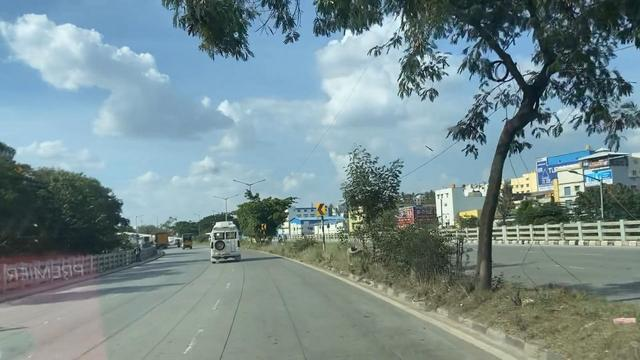HMV: (208, 217, 239, 262)
